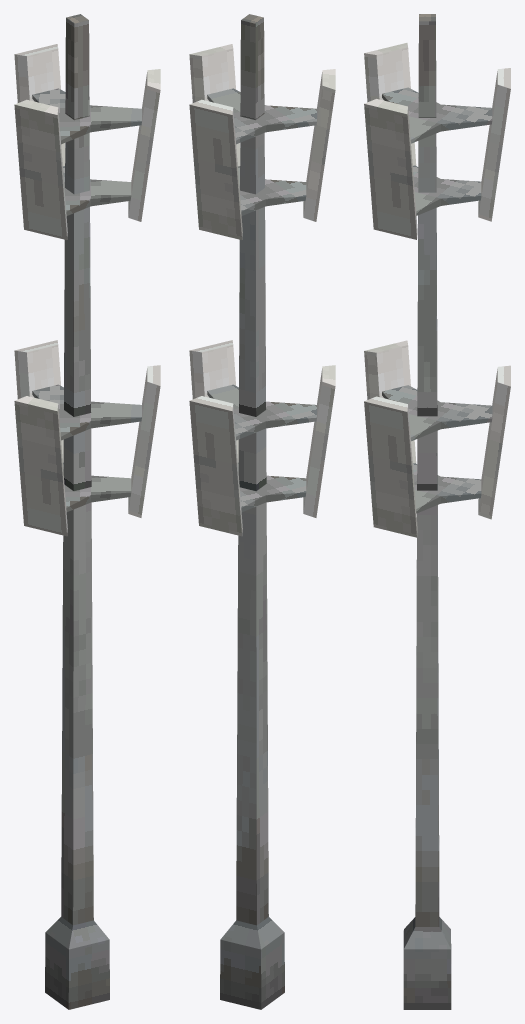
Rendered from wifi-antenna.obj.
3 renders of one model, left to right at view 1: azimuth 30°, elevation 25°; view 2: azimuth 150°, elevation 25°; view 3: azimuth 270°, elevation 25°, orthographic.
Visible parts, largest first — view 1: wifi-antenna; view 2: wifi-antenna; view 3: wifi-antenna.
Part boxes in pixels (x1=…): wifi-antenna: x1=14, y1=14, x2=160, y2=1009; wifi-antenna: x1=189, y1=14, x2=335, y2=1009; wifi-antenna: x1=364, y1=14, x2=510, y2=1009.
Bounding box in the file's own units: 0.5164 × 3.3 × 0.4472.
Materials: 1 (1 with a texture image).
